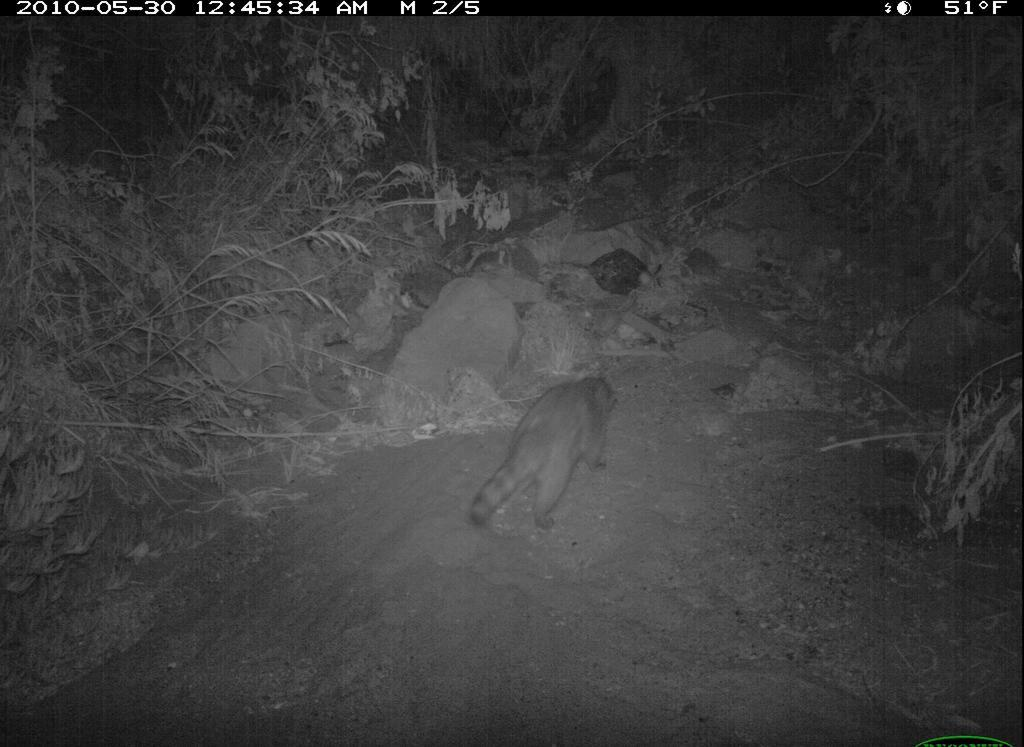raccoon: (470, 374, 623, 537)
